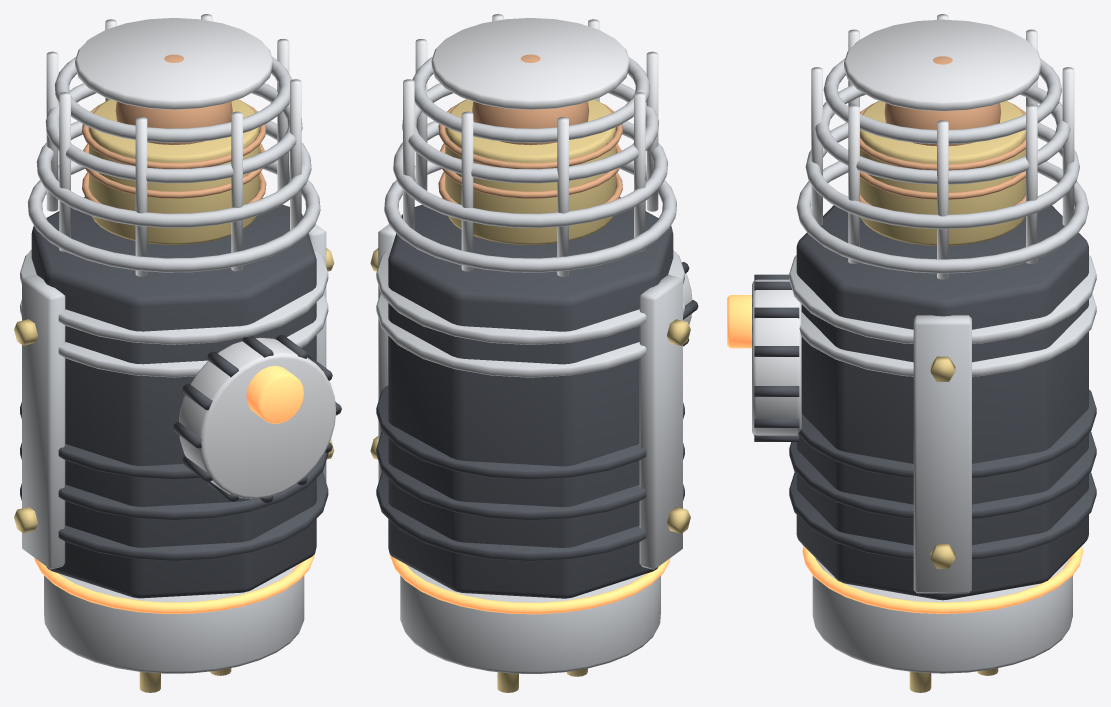
Rendered from kestrel-recorder.glb.
3 renders of one model, left to right at view 1: azimuth 30°, elevation 25°; view 2: azimuth 150°, elevation 25°; view 3: azimuth 270°, elevation 25°, orthographic.
Parts seen in each view (by area): view 1: part_01_chassis, part_02_capsule_guard, part_04_rotary_gain, part_05_bayonet_mount, part_03_transducer_core; view 2: part_01_chassis, part_02_capsule_guard, part_05_bayonet_mount, part_03_transducer_core, part_04_rotary_gain; view 3: part_01_chassis, part_02_capsule_guard, part_05_bayonet_mount, part_03_transducer_core, part_04_rotary_gain.
Boxes of the visible parts, box(x1,y1,x2,y2) form: part_01_chassis: box(14, 197, 334, 598); part_02_capsule_guard: box(27, 14, 320, 276); part_04_rotary_gain: box(173, 335, 341, 503); part_05_bayonet_mount: box(34, 554, 314, 692); part_03_transducer_core: box(82, 54, 266, 244); part_01_chassis: box(370, 197, 690, 598); part_02_capsule_guard: box(384, 14, 676, 276); part_05_bayonet_mount: box(390, 555, 670, 692); part_03_transducer_core: box(438, 54, 622, 244); part_04_rotary_gain: box(681, 262, 698, 346); part_01_chassis: box(789, 205, 1096, 600); part_02_capsule_guard: box(796, 14, 1088, 279); part_05_bayonet_mount: box(802, 546, 1083, 692); part_03_transducer_core: box(860, 56, 1025, 245); part_04_rotary_gain: box(727, 274, 801, 441).
Bounding box in the file's own units: 1.58 × 3.01 × 1.64.
